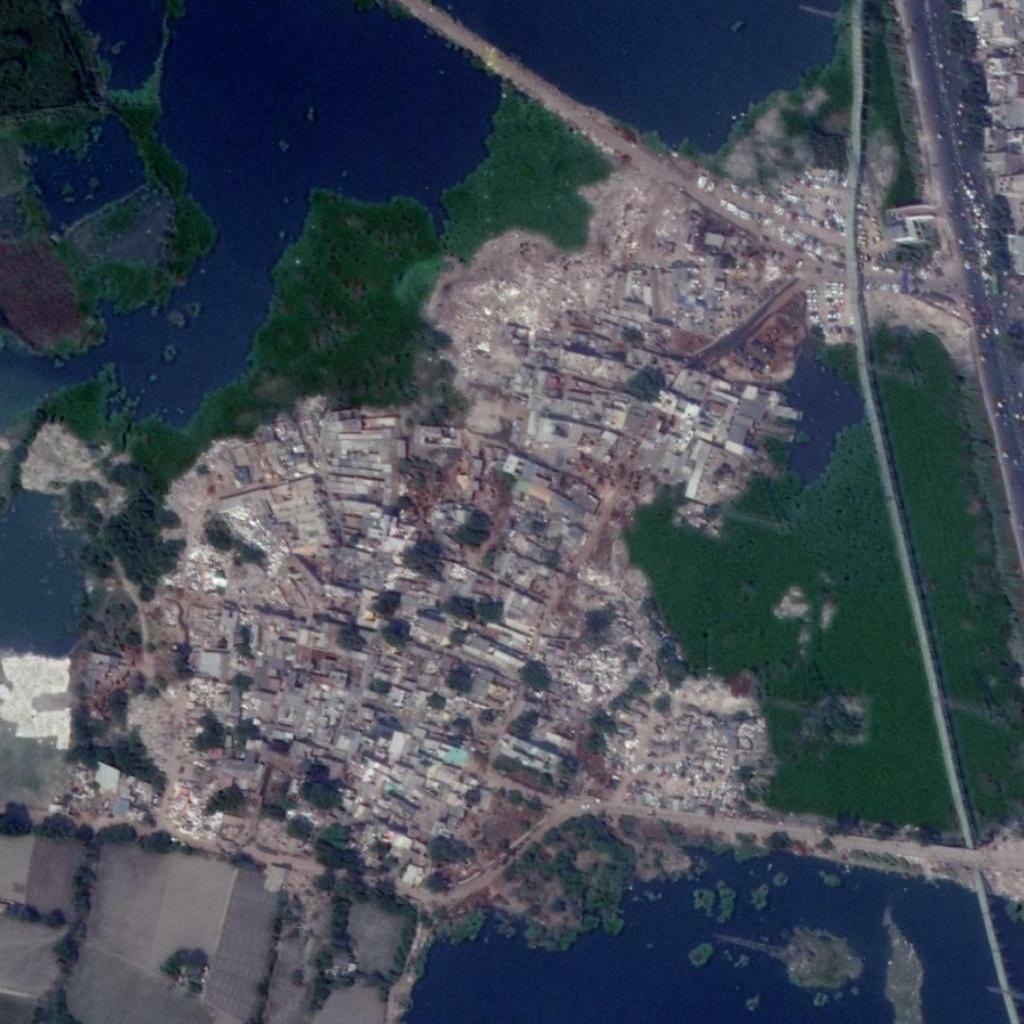agriculture forestry: (16, 419, 102, 499)
construction waste: (446, 174, 704, 374), (556, 637, 763, 816), (176, 502, 308, 597)
domestic garbage: (156, 773, 228, 843)
